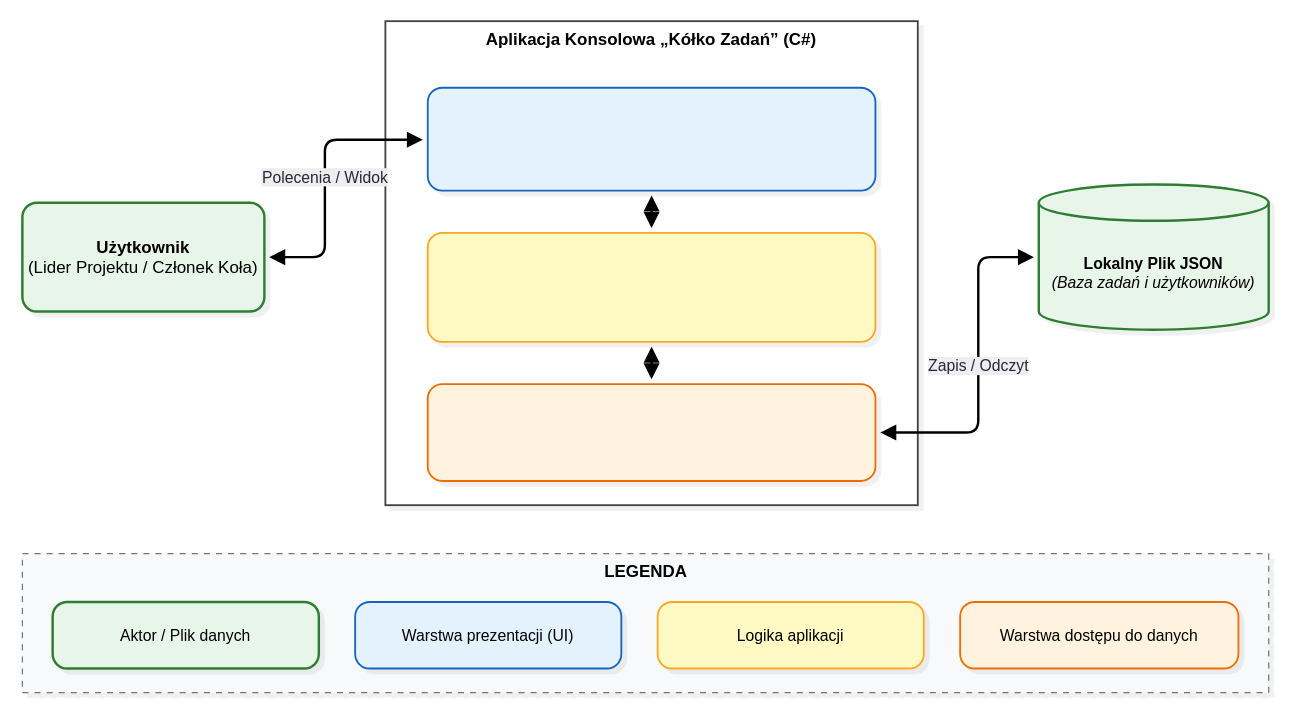
The diagram is 1295 pixels wide and 720 high, and some of its shapes have lost their labels. The shapes that lost their labels are listed below. From the top down, each one's centre as x and y in pixels, then its label:
At point 653,141: "Interfejs Konsolowy (Terminal) Menu, widok tablicy Kanban i obsługa poleceń".
At point 653,289: "Logika Aplikacji Zarządzanie zadaniami, zmiana statusów i uprawnienia ról".
At point 653,434: "Moduł Obsługi Danych Odczyt i zapis stanu tablicy w formacie JSON".
